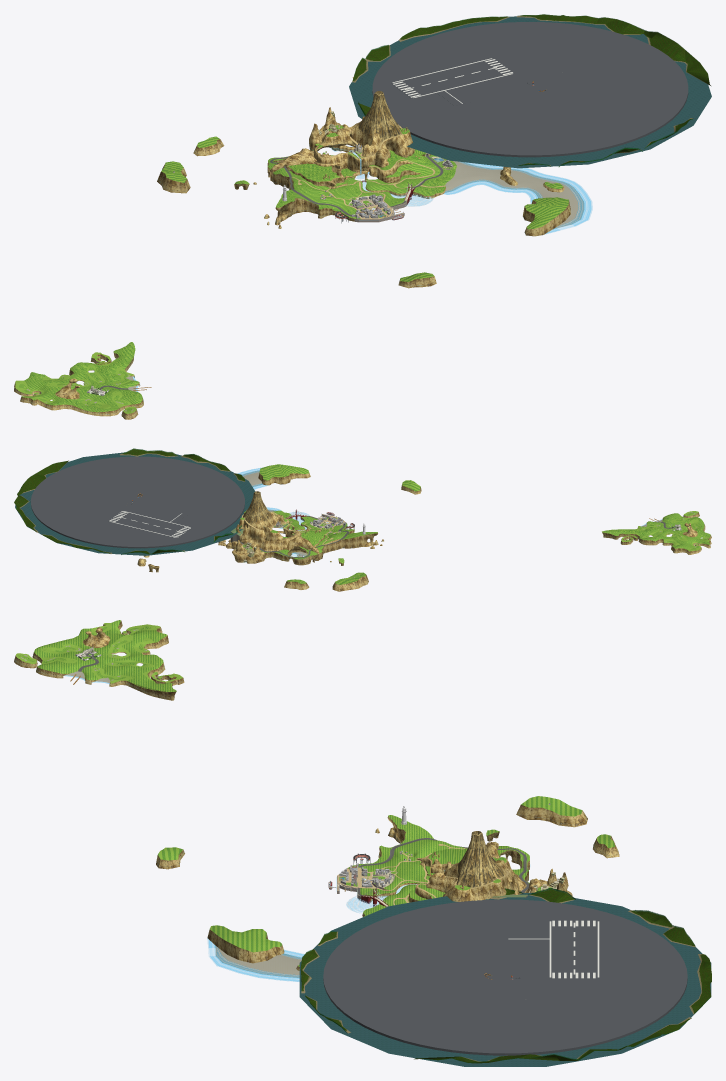
Rendered from mariokart.glb.
The picture shows the model from 3 angles, top to bottom: view 1: azimuth 30°, elevation 25°; view 2: azimuth 150°, elevation 25°; view 3: azimuth 270°, elevation 25°; orthographic projection. The views are drawn at different scales.
Visible parts, largest first — view 1: mariokart_apron, wuhu_island, sunshine_airport, mariokart_runway; view 2: mariokart_apron, wuhu_island, sunshine_airport, mariokart_runway; view 3: mariokart_apron, wuhu_island, sunshine_airport, mariokart_runway.
Part boxes in pixels (bbox=[...]): mariokart_apron: bbox=[372, 22, 688, 157]; wuhu_island: bbox=[14, 77, 592, 419]; sunshine_airport: bbox=[349, 14, 711, 168]; mariokart_runway: bbox=[390, 57, 514, 98]; mariokart_apron: bbox=[30, 456, 244, 548]; wuhu_island: bbox=[137, 464, 711, 591]; sunshine_airport: bbox=[14, 448, 255, 555]; mariokart_runway: bbox=[108, 510, 191, 538]; mariokart_apron: bbox=[323, 899, 687, 1055]; wuhu_island: bbox=[14, 620, 619, 981]; sunshine_airport: bbox=[299, 888, 711, 1066]; mariokart_runway: bbox=[549, 920, 599, 978].
Size of what is drawn, in the model's own units: 200 by 16.58 by 126.
120 materials, 111 textured.
